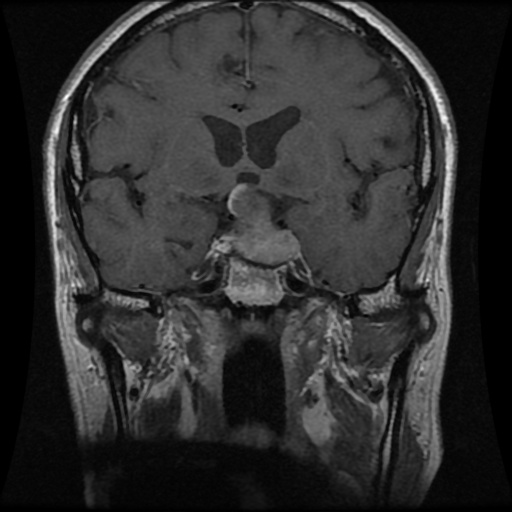pituitary: (228, 186, 299, 262)
